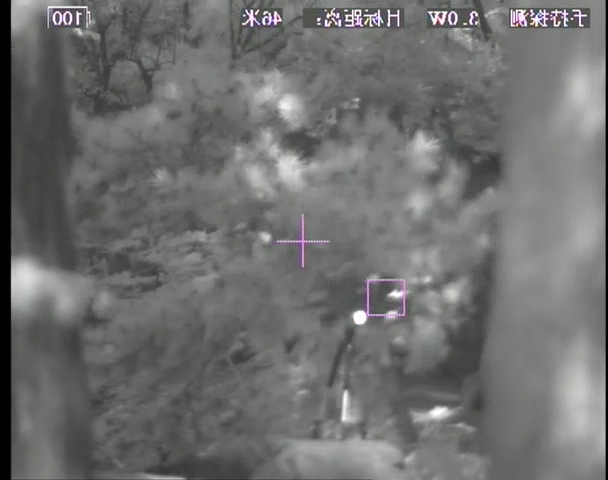my: (352, 309, 368, 326)
